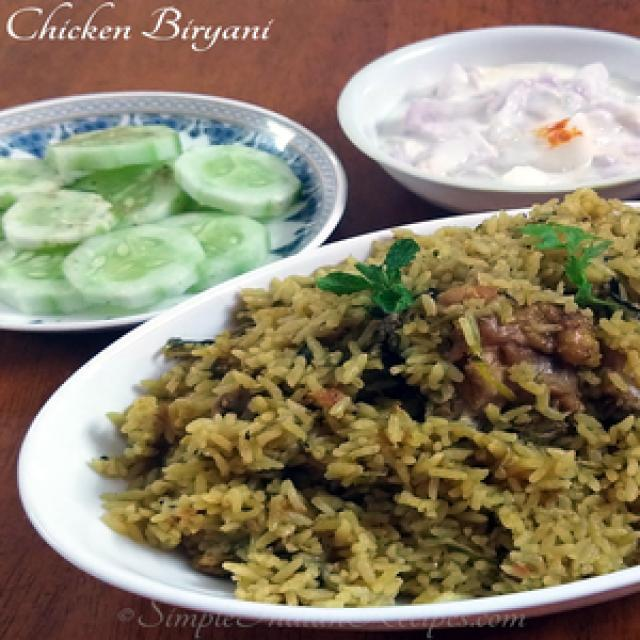chicken biriyani: (101, 177, 640, 615)
